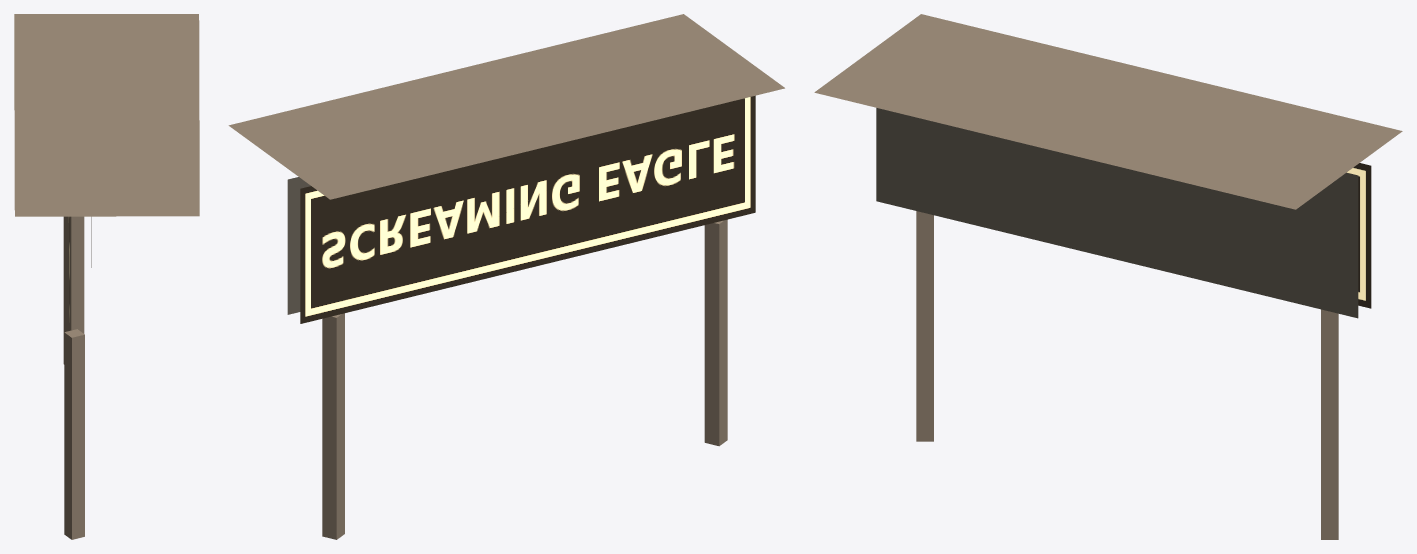
The model's file is eb_sign_screamingeagle.glb.
The picture shows the model from 3 angles, left to right: view 1: azimuth 30°, elevation 25°; view 2: azimuth 150°, elevation 25°; view 3: azimuth 270°, elevation 25°; orthographic projection. The views are drawn at different scales.
Parts seen in each view (by area): view 1: eb_sign_screamingeagle_lod0; view 2: eb_sign_screamingeagle_lod0; view 3: eb_sign_screamingeagle_lod0.
Part boxes in pixels (x1,y1,x2,y2): eb_sign_screamingeagle_lod0: (14, 14, 199, 539); eb_sign_screamingeagle_lod0: (228, 14, 784, 539); eb_sign_screamingeagle_lod0: (814, 14, 1402, 539).
Size of what is drawn, in the model's own units: 3.67 by 3.4 by 4.66.
4 materials, 1 textured.
